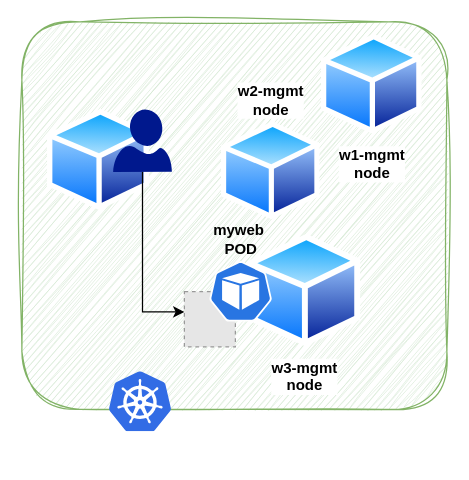
Image size: 469x480. Some labels were removed from this diagram. Grey dashed boxes stand in for pictures. The box of each missing label's shape, as (x1, y1, x2, y2) in pixels:
ctlr-mgmt node: (46, 109, 150, 210)
kubernetes cluster: (109, 371, 171, 431)
